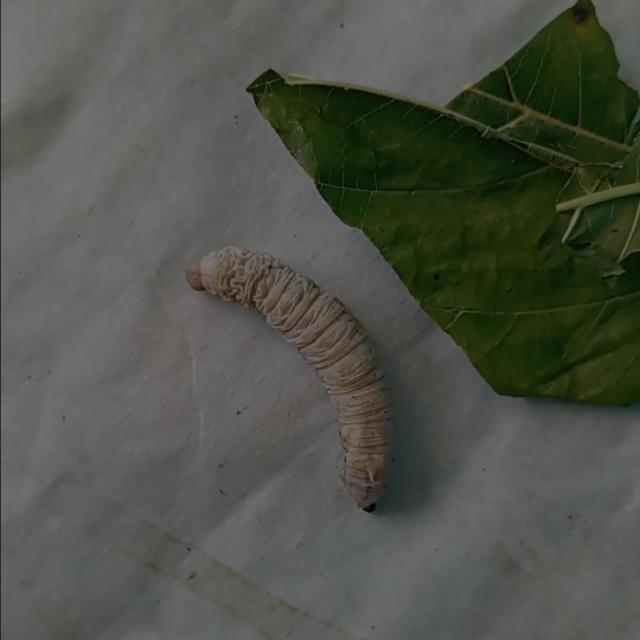Grasserie: (167, 224, 420, 545)
